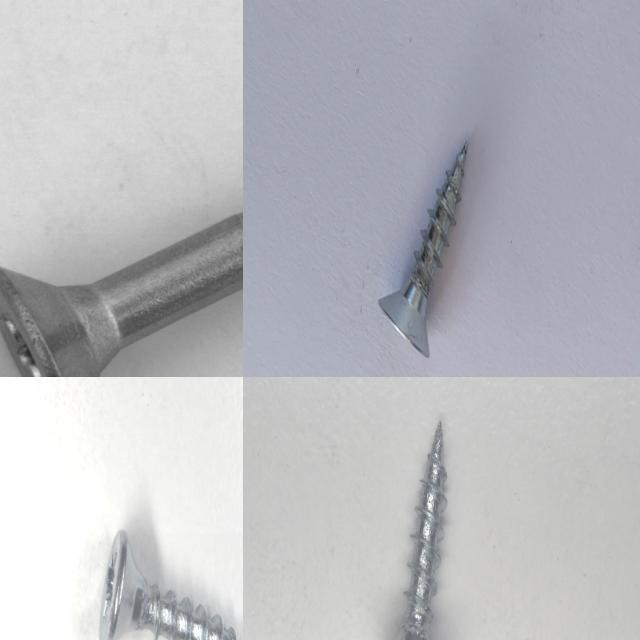Screw: (0, 55, 243, 377), (378, 140, 468, 357), (373, 415, 449, 640), (99, 530, 237, 640)
